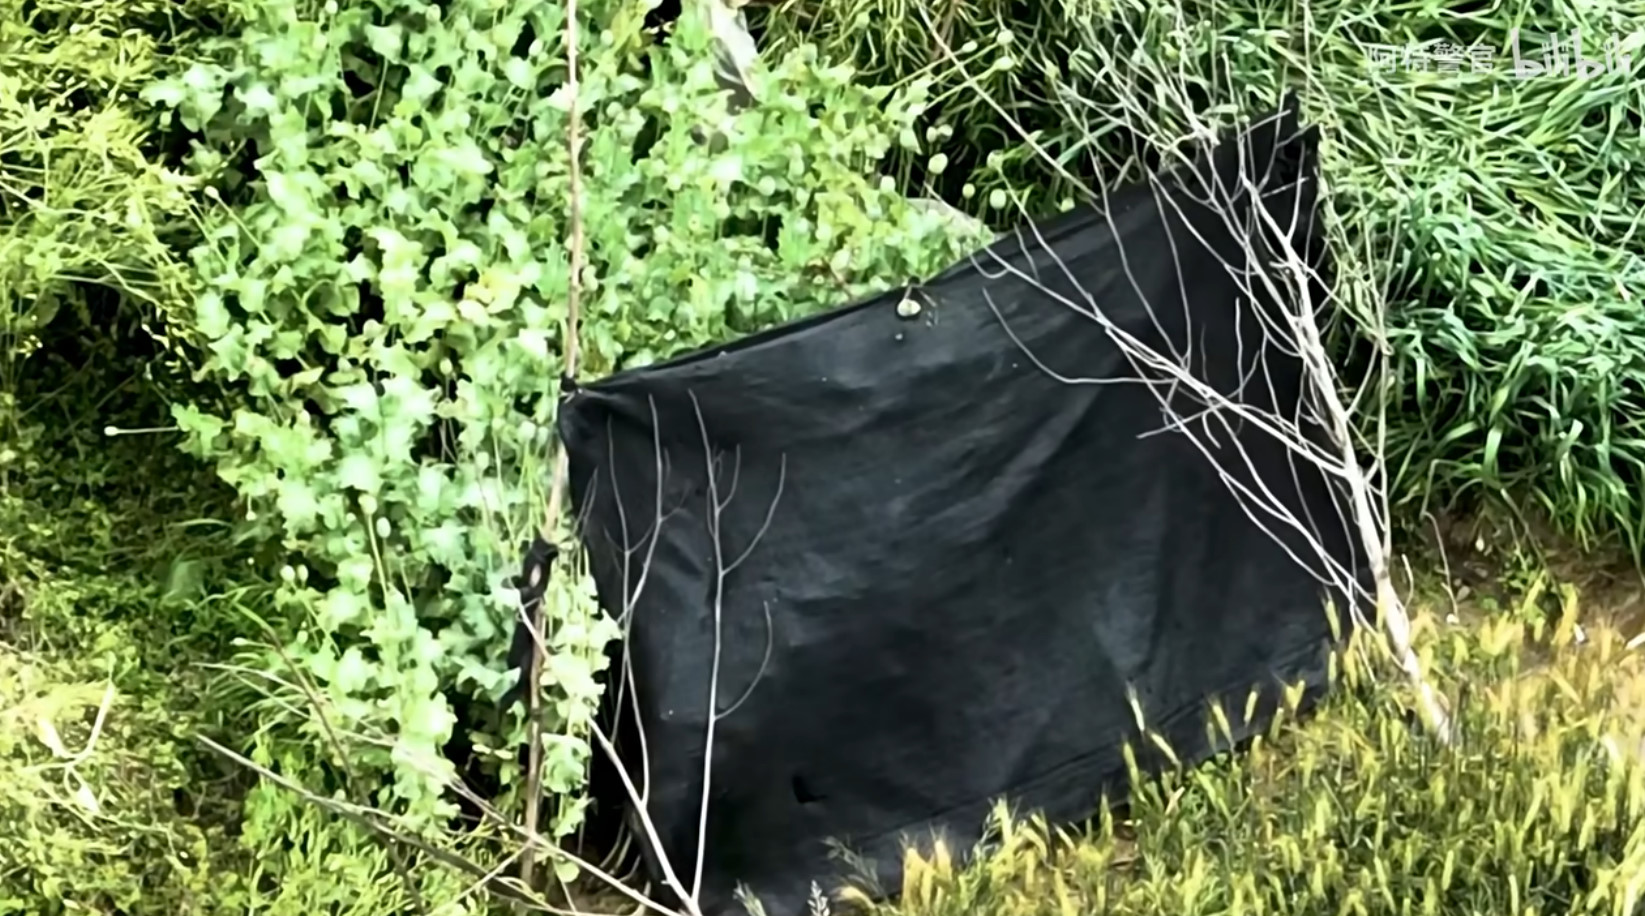Poppy: (124, 2, 996, 821)
